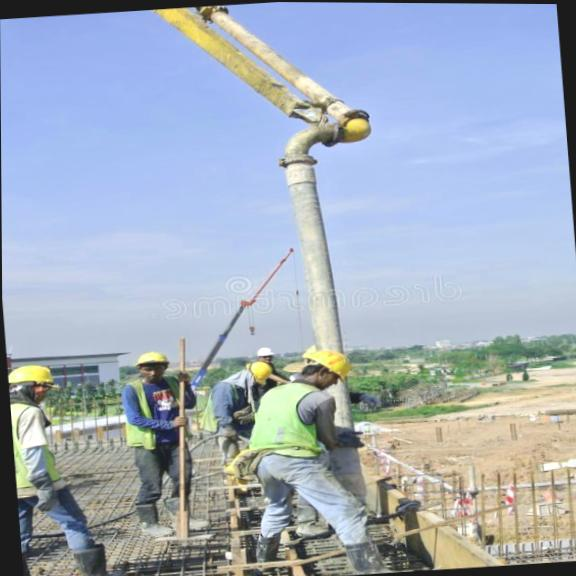safety_vest: (230, 381, 333, 469)
